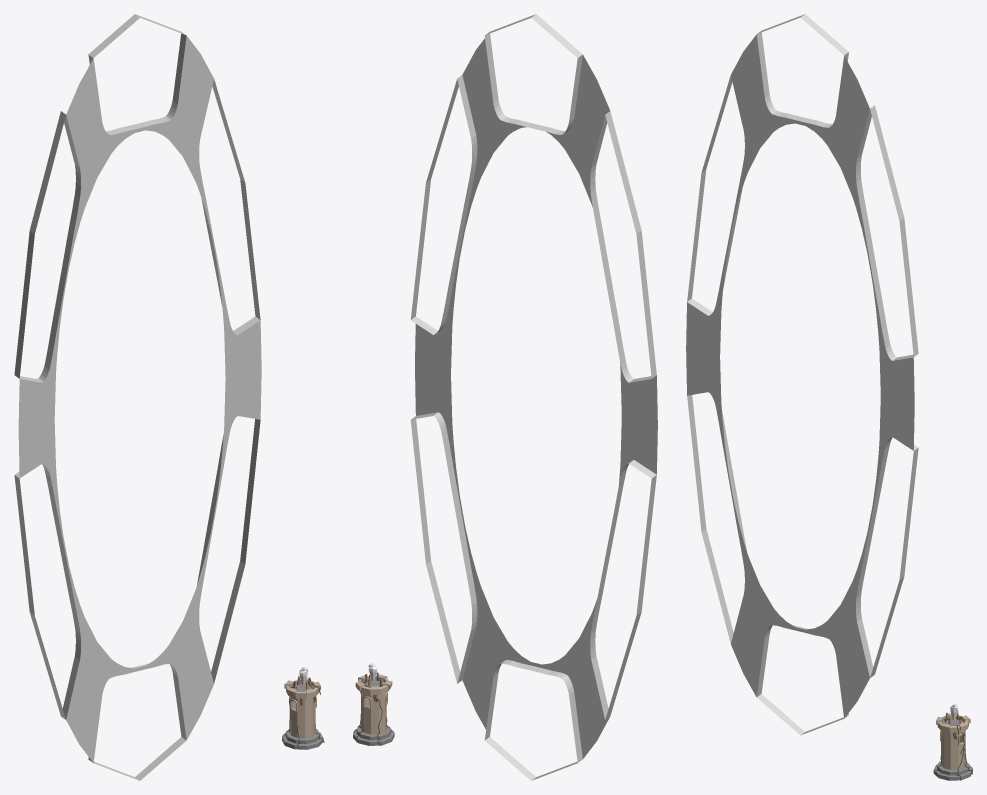
The model's file is Kule.fbx.
3 views of the same model, side by side, from view 1: azimuth 30°, elevation 25°; view 2: azimuth 150°, elevation 25°; view 3: azimuth 330°, elevation 25° (orthographic). The views are drawn at different scales.
Parts seen in each view (by area): view 1: YEDEK, Cylinder.001; view 2: YEDEK, Cylinder.001; view 3: YEDEK, Cylinder.001.
Boxes of the visible parts, x1=… form: YEDEK: x1=14, y1=14, x2=261, y2=780; Cylinder.001: x1=289, y1=696, x2=316, y2=738; YEDEK: x1=410, y1=14, x2=657, y2=780; Cylinder.001: x1=361, y1=692, x2=387, y2=734; YEDEK: x1=686, y1=14, x2=918, y2=735; Cylinder.001: x1=940, y1=730, x2=965, y2=769.
Bounding box in the file's own units: 1673 × 4040 × 191.
